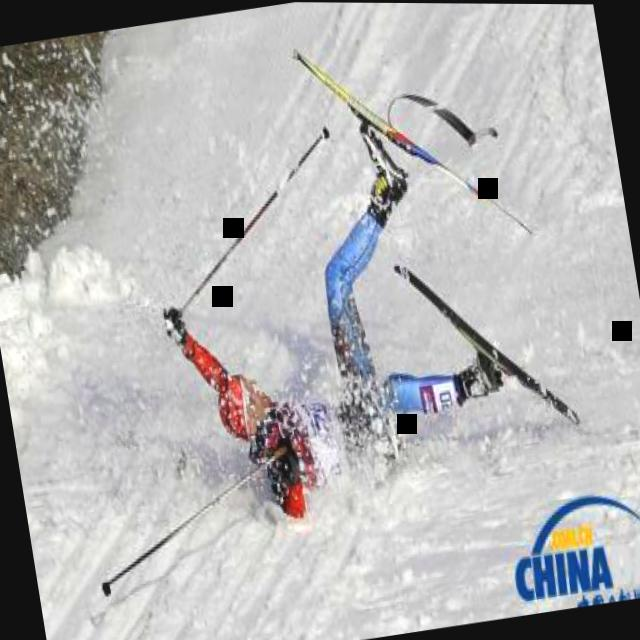Fall-Detected: (100, 96, 550, 548)
